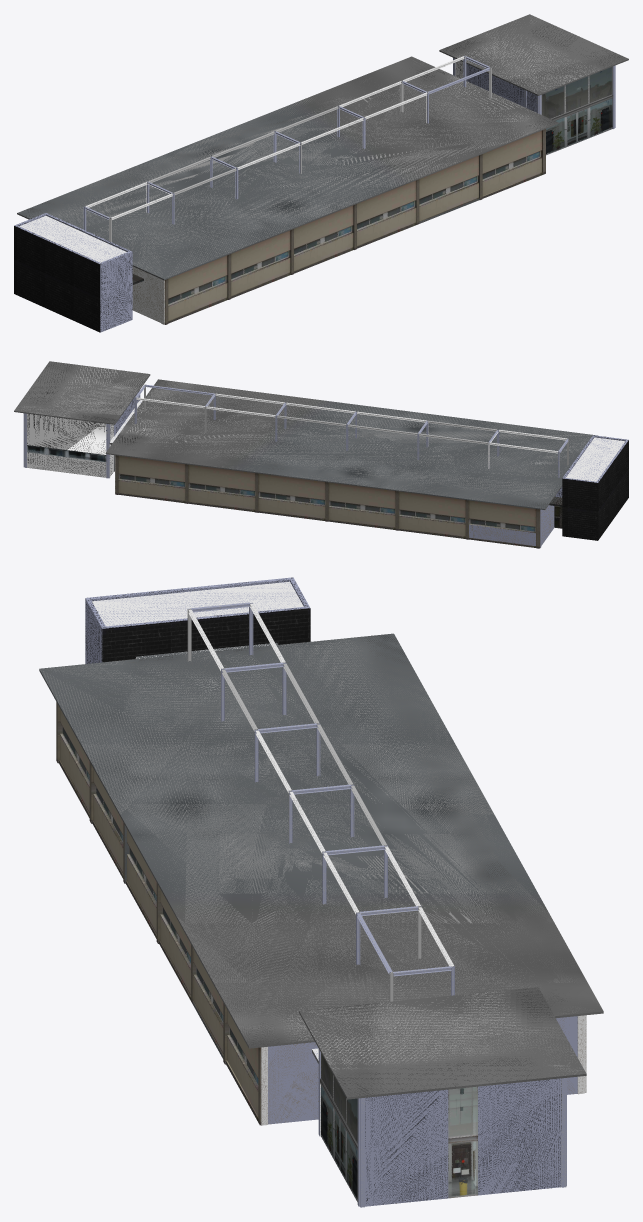
The model's file is Edificio Central Parque 1.fbx.
3 views of the same model, one above another, from view 1: azimuth 30°, elevation 25°; view 2: azimuth 150°, elevation 25°; view 3: azimuth 270°, elevation 25° (orthographic). The views are drawn at different scales.
Parts seen in each view (by area): view 1: Group1; view 2: Group1; view 3: Group1.
Part boxes in pixels (x1,y1,x2,y2): Group1: (14, 14, 628, 332); Group1: (14, 361, 628, 548); Group1: (39, 577, 603, 1207).
Size of the model in its own units: 53.94 by 6.68 by 24.64.
